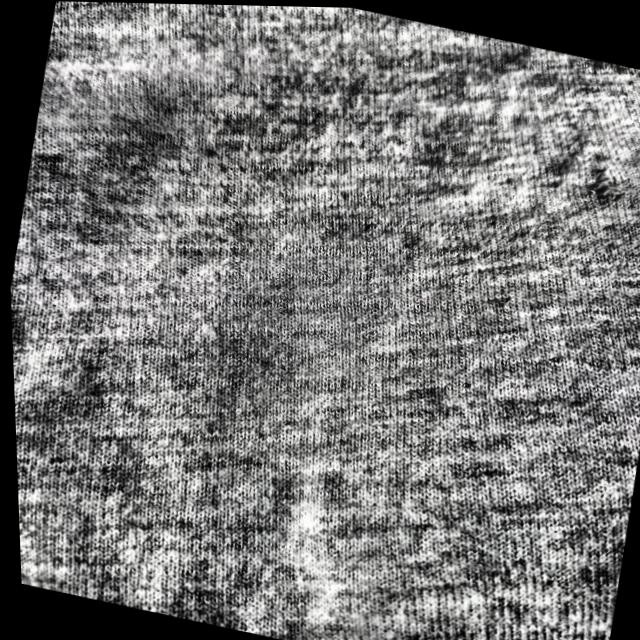Hole: (564, 149, 636, 223)
